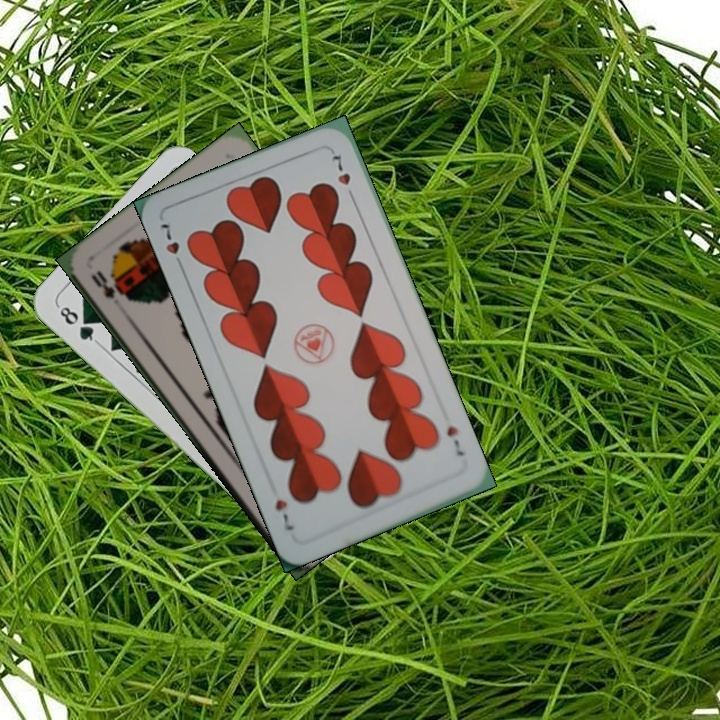G8: (54, 301, 101, 346)
H7: (155, 219, 187, 273), (442, 422, 467, 459)
SO: (86, 266, 125, 302)
